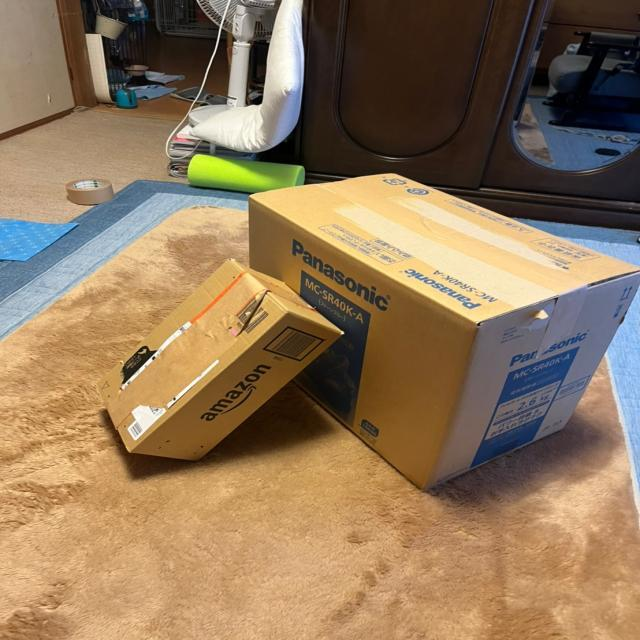-: (240, 166, 640, 495), (91, 255, 352, 467)
